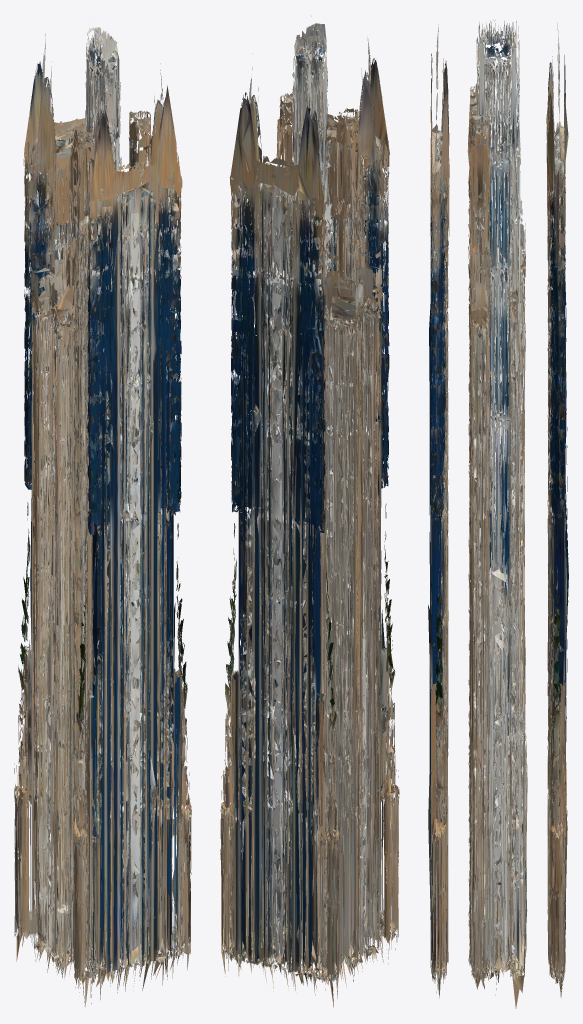
Rendered from elite-residence.glb.
3 renders of one model, left to right at view 1: azimuth 30°, elevation 25°; view 2: azimuth 150°, elevation 25°; view 3: azimuth 270°, elevation 25°, orthographic. The views are drawn at different scales.
Visible parts, largest first — view 1: Mesh_0; view 2: Mesh_0; view 3: Mesh_0.
Boxes of the visible parts, x1,y1,x2,y2 form: Mesh_0: (14,27,191,1006); Mesh_0: (220,15,399,1007); Mesh_0: (428,19,568,1008).
Size of the model in its own units: 50 by 381 by 50.
Materials: 1 (1 with a texture image).
